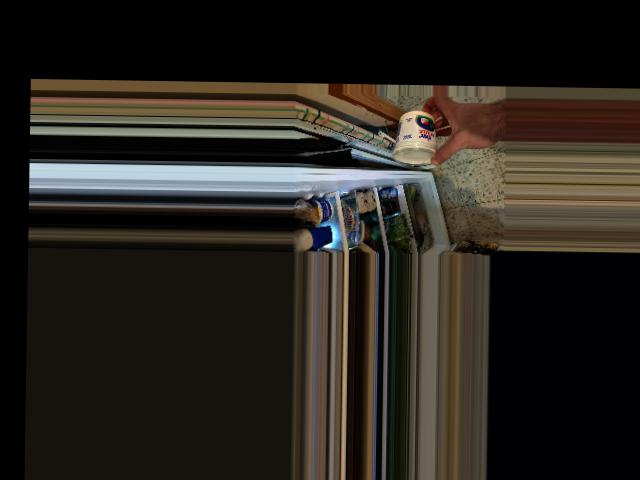cotage: (393, 107, 438, 165)
